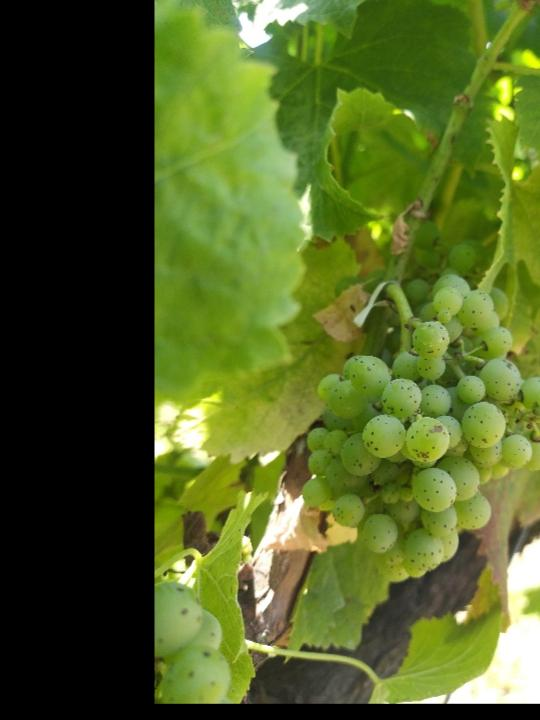grape: (300, 271, 540, 584)
